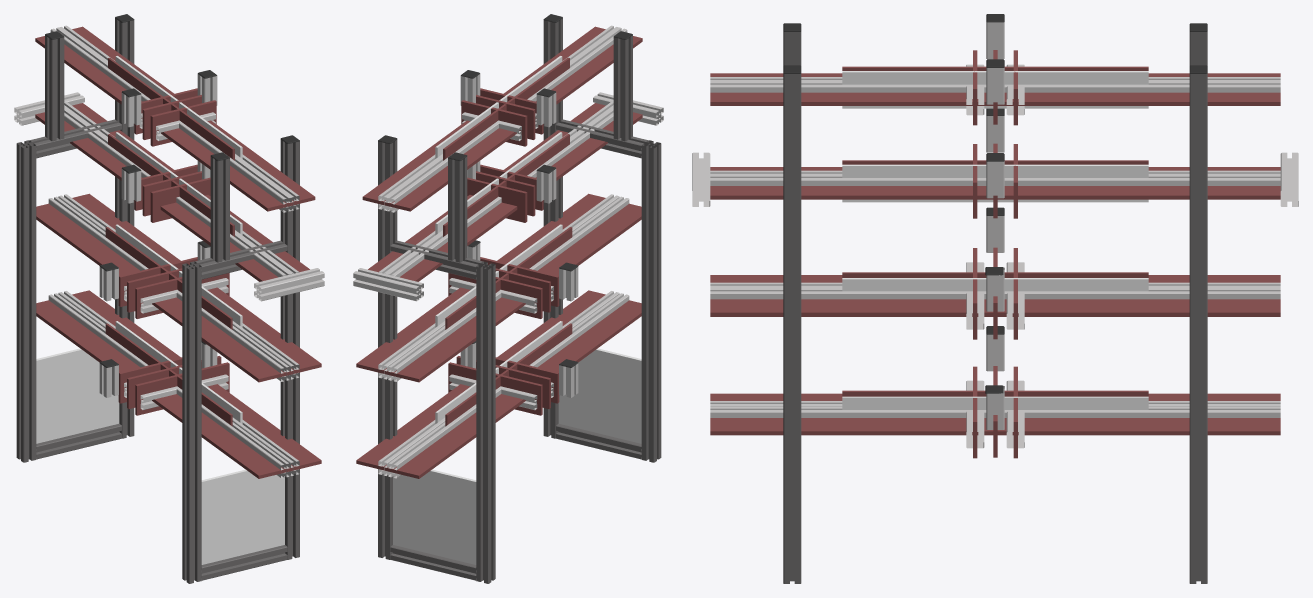
Rendered from vd_test_transporter_001ec27e.glb.
The picture shows the model from 3 angles, left to right: view 1: azimuth 30°, elevation 25°; view 2: azimuth 150°, elevation 25°; view 3: azimuth 270°, elevation 25°; orthographic projection. The views are drawn at different scales.
Visible parts, largest first — view 1: PR10_1266x291.001, PR10_1266x291, CUB10_292x260.001, 40x40x945_noha, 40x40x945_noha.001, CUB10_292x260, 40x40x1250_noha.001, PR10_1266x220, PR10_1266x220.001, 40x40x1250_noha, SL40x40x1267_Zx2.003, SL40x40x1267_Zx2.002 (+45 smaller); view 2: PR10_1266x291.001, PR10_1266x291, CUB10_292x260, 40x40x945_noha.001, 40x40x945_noha, CUB10_292x260.001, 40x40x1250_noha, PR10_1266x220, PR10_1266x220.001, 40x40x1250_noha.001, SL40x40x1267_Zx2.003, SL40x40x1267_Zx2.002 (+46 smaller); view 3: PR10_1266x291, PR10_1266x291.001, 40x40x1250_noha, 40x40x1250_noha.001, PR10_1266x220.001, PR10_1266x220, SL40x40x1267_Zx2_2.002, SL40x40x1267_Zx2_2, SL40x40x1267_Zx2_2.001, CUB10_635x89.001, SL40x40x1267_Zx2_2.003, CUB10_635x89 (+18 smaller).
Boxes of the visible parts, <box> form: PR10_1266x291.001: <box>36,290,321,478</box>; PR10_1266x291: <box>36,193,321,382</box>; CUB10_292x260.001: <box>201,469,284,564</box>; 40x40x945_noha: <box>16,140,36,462</box>; 40x40x945_noha.001: <box>182,261,201,583</box>; CUB10_292x260: <box>36,348,119,443</box>; 40x40x1250_noha.001: <box>280,139,299,559</box>; PR10_1266x220: <box>35,26,315,211</box>; PR10_1266x220.001: <box>35,103,309,281</box>; 40x40x1250_noha: <box>115,18,134,438</box>; SL40x40x1267_Zx2.003: <box>48,293,289,478</box>; SL40x40x1267_Zx2.002: <box>48,196,289,381</box>; PR10_1266x291.001: <box>356,290,641,478</box>; PR10_1266x291: <box>356,193,641,382</box>; CUB10_292x260: <box>393,469,476,564</box>; 40x40x945_noha.001: <box>641,140,661,462</box>; 40x40x945_noha: <box>476,261,495,583</box>; CUB10_292x260.001: <box>558,348,641,443</box>; 40x40x1250_noha: <box>378,139,397,559</box>; PR10_1266x220: <box>362,26,642,211</box>; PR10_1266x220.001: <box>368,103,642,281</box>; 40x40x1250_noha.001: <box>543,18,562,438</box>; SL40x40x1267_Zx2.003: <box>388,293,629,478</box>; SL40x40x1267_Zx2.002: <box>388,196,629,381</box>; PR10_1266x291: <box>710,275,1280,316</box>; PR10_1266x291.001: <box>710,393,1280,435</box>; 40x40x1250_noha: <box>1189,73,1207,583</box>; 40x40x1250_noha.001: <box>783,73,801,583</box>; PR10_1266x220.001: <box>710,167,1280,199</box>; PR10_1266x220: <box>710,73,1280,105</box>; SL40x40x1267_Zx2_2.002: <box>710,288,1280,299</box>; SL40x40x1267_Zx2_2: <box>710,81,1280,92</box>; SL40x40x1267_Zx2_2.001: <box>710,175,1280,185</box>; CUB10_635x89.001: <box>842,164,1128,202</box>; SL40x40x1267_Zx2_2.003: <box>710,407,1280,417</box>; CUB10_635x89: <box>842,71,1128,108</box>.
Size of the model in its own units: 0.3695 by 1.27 by 1.35.
